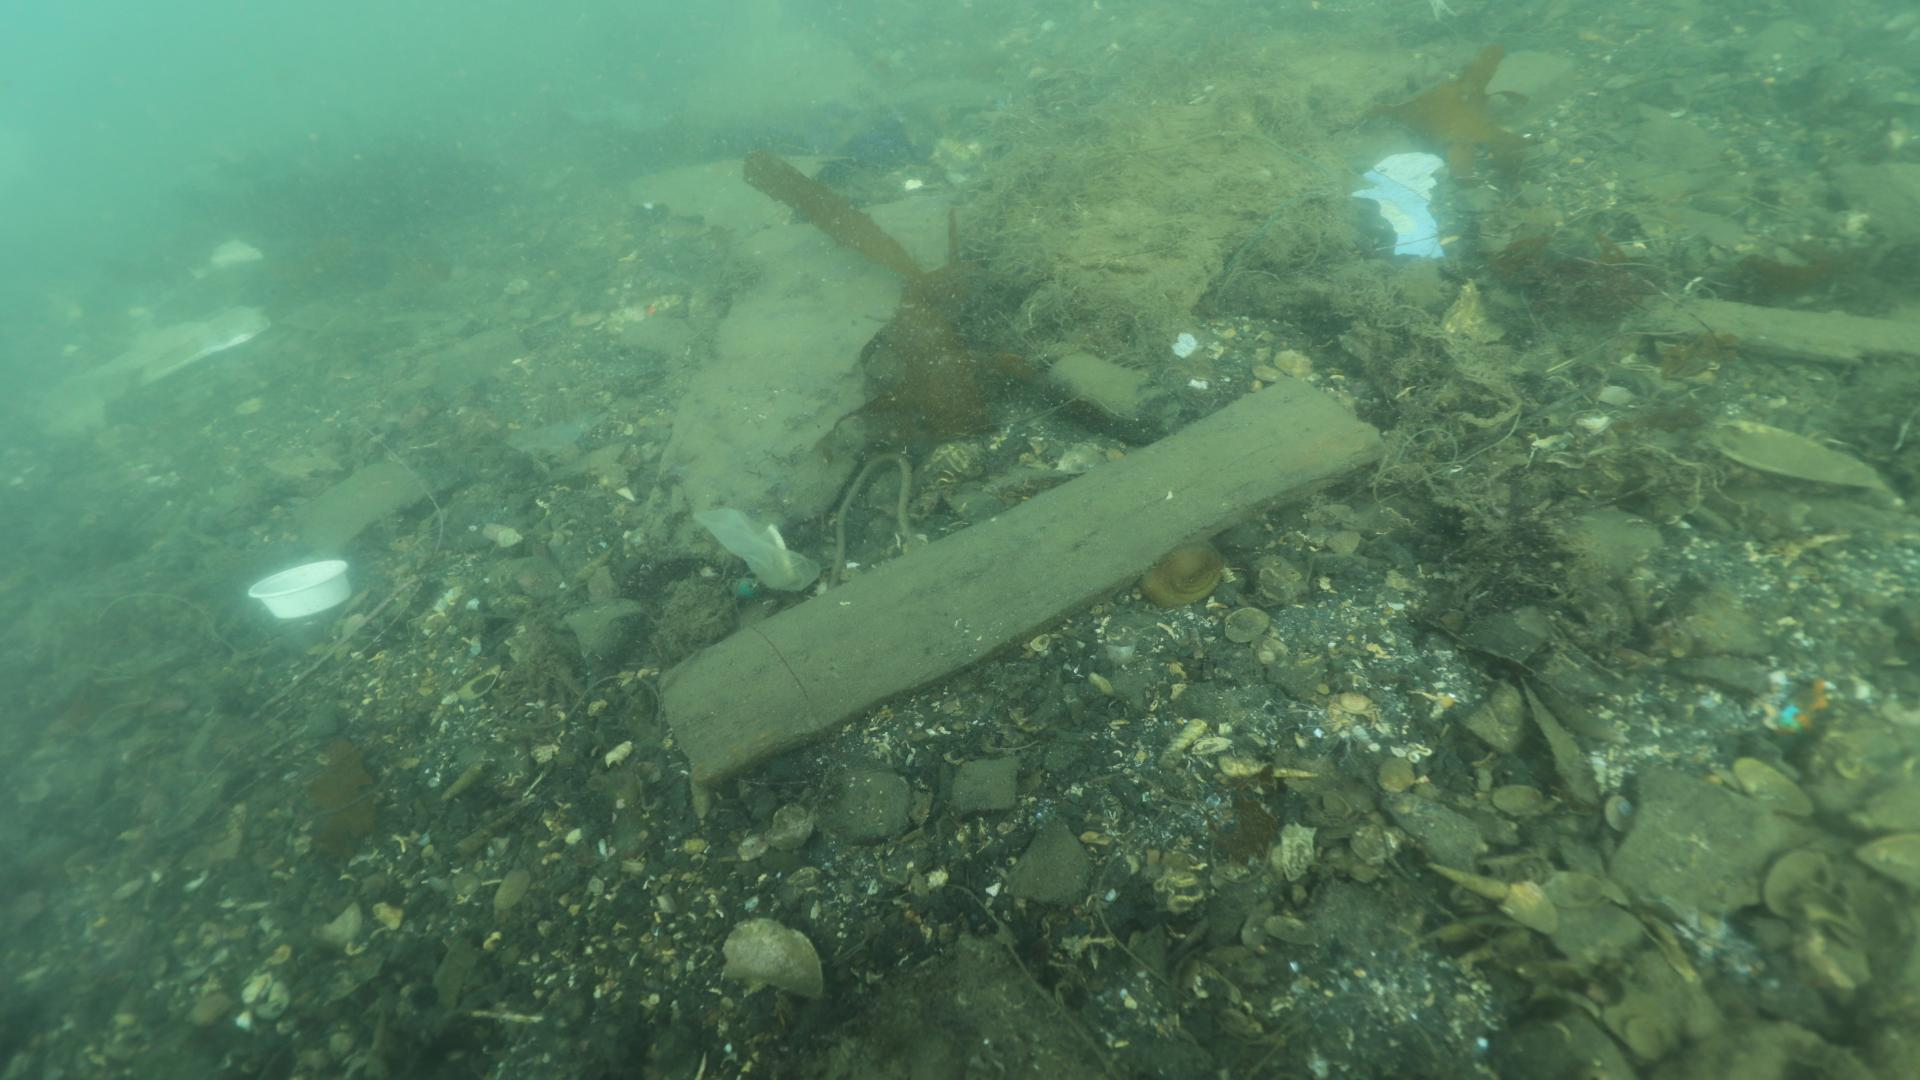wood: (651, 371, 1389, 790)
